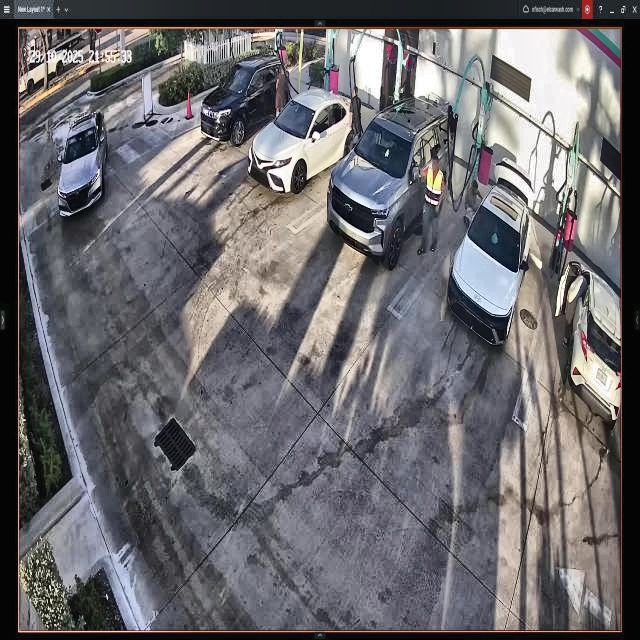Car: (324, 98, 454, 262), (449, 162, 533, 344), (248, 90, 362, 194), (200, 55, 290, 145)
